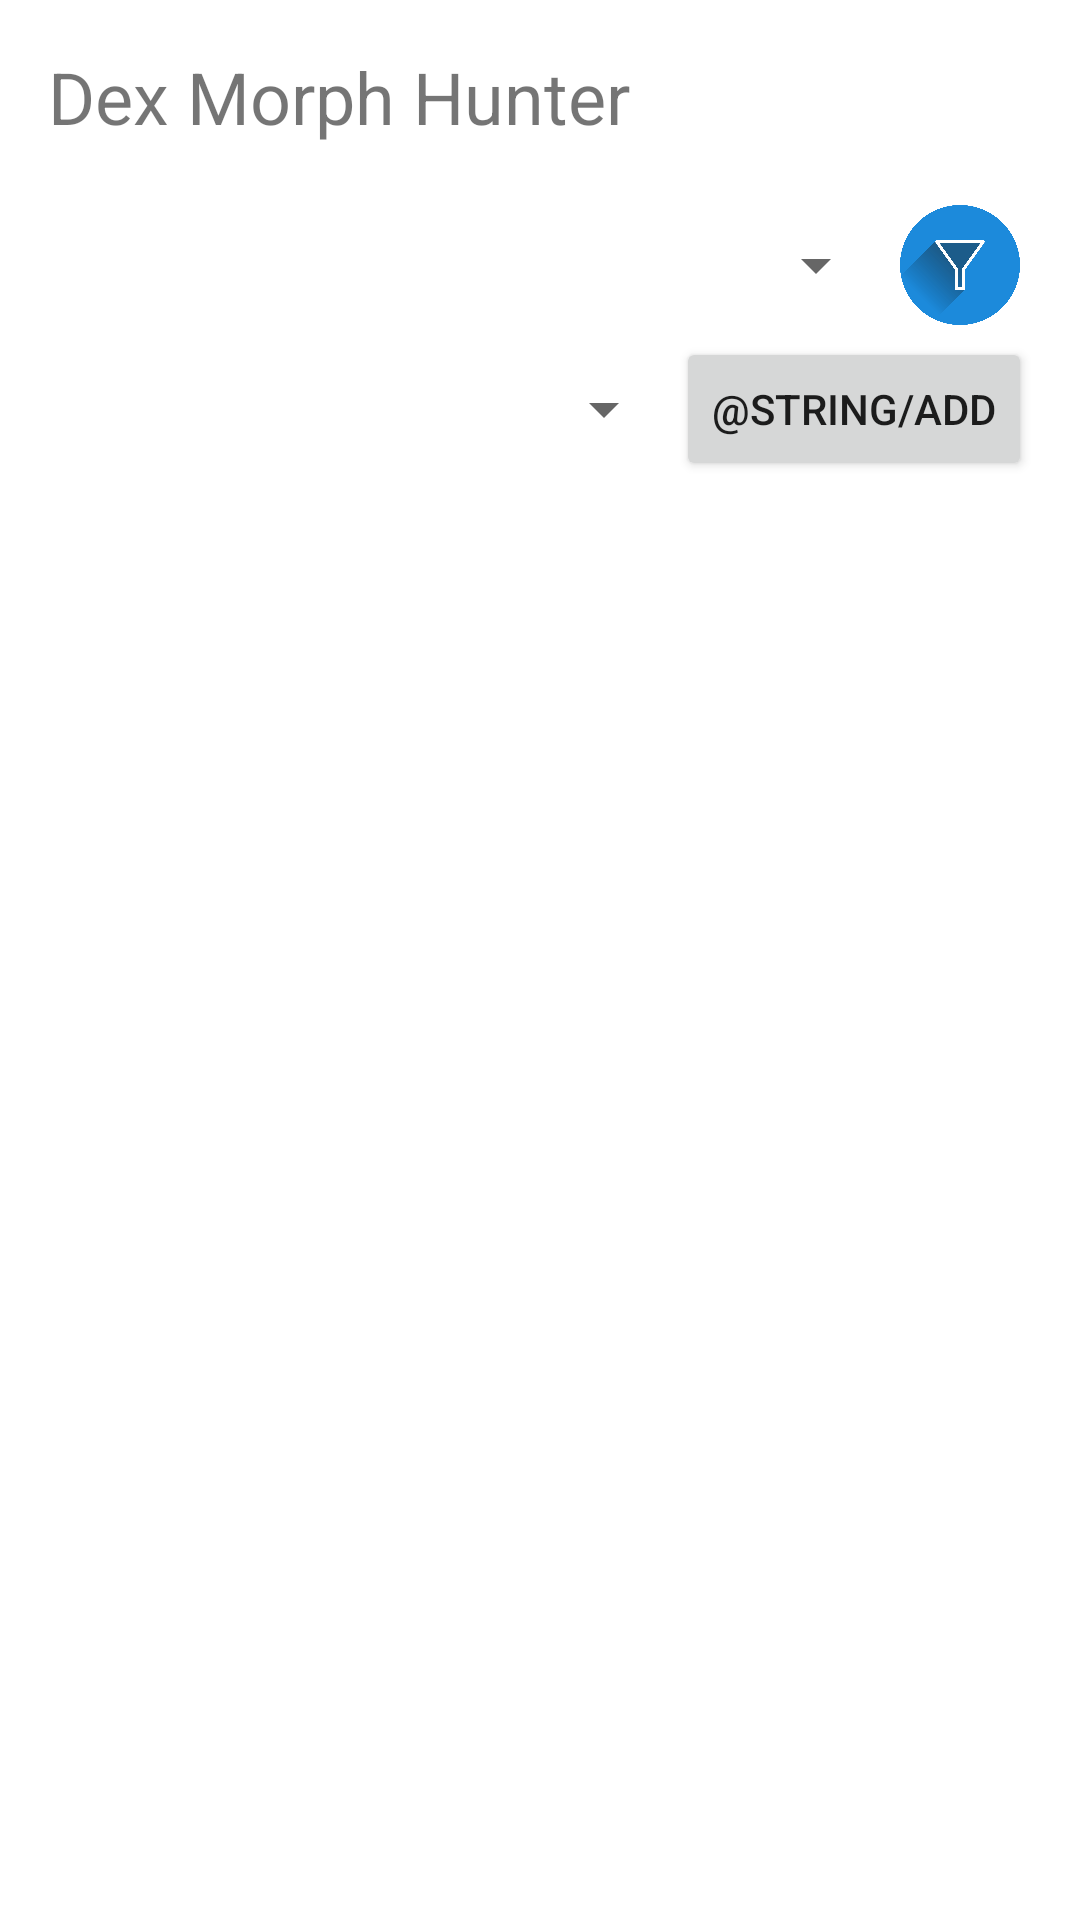

Icons on this 1080*1920 Android screen, each with its box as (x1, y1, x2, y2):
filter: (900, 205, 1020, 325)
